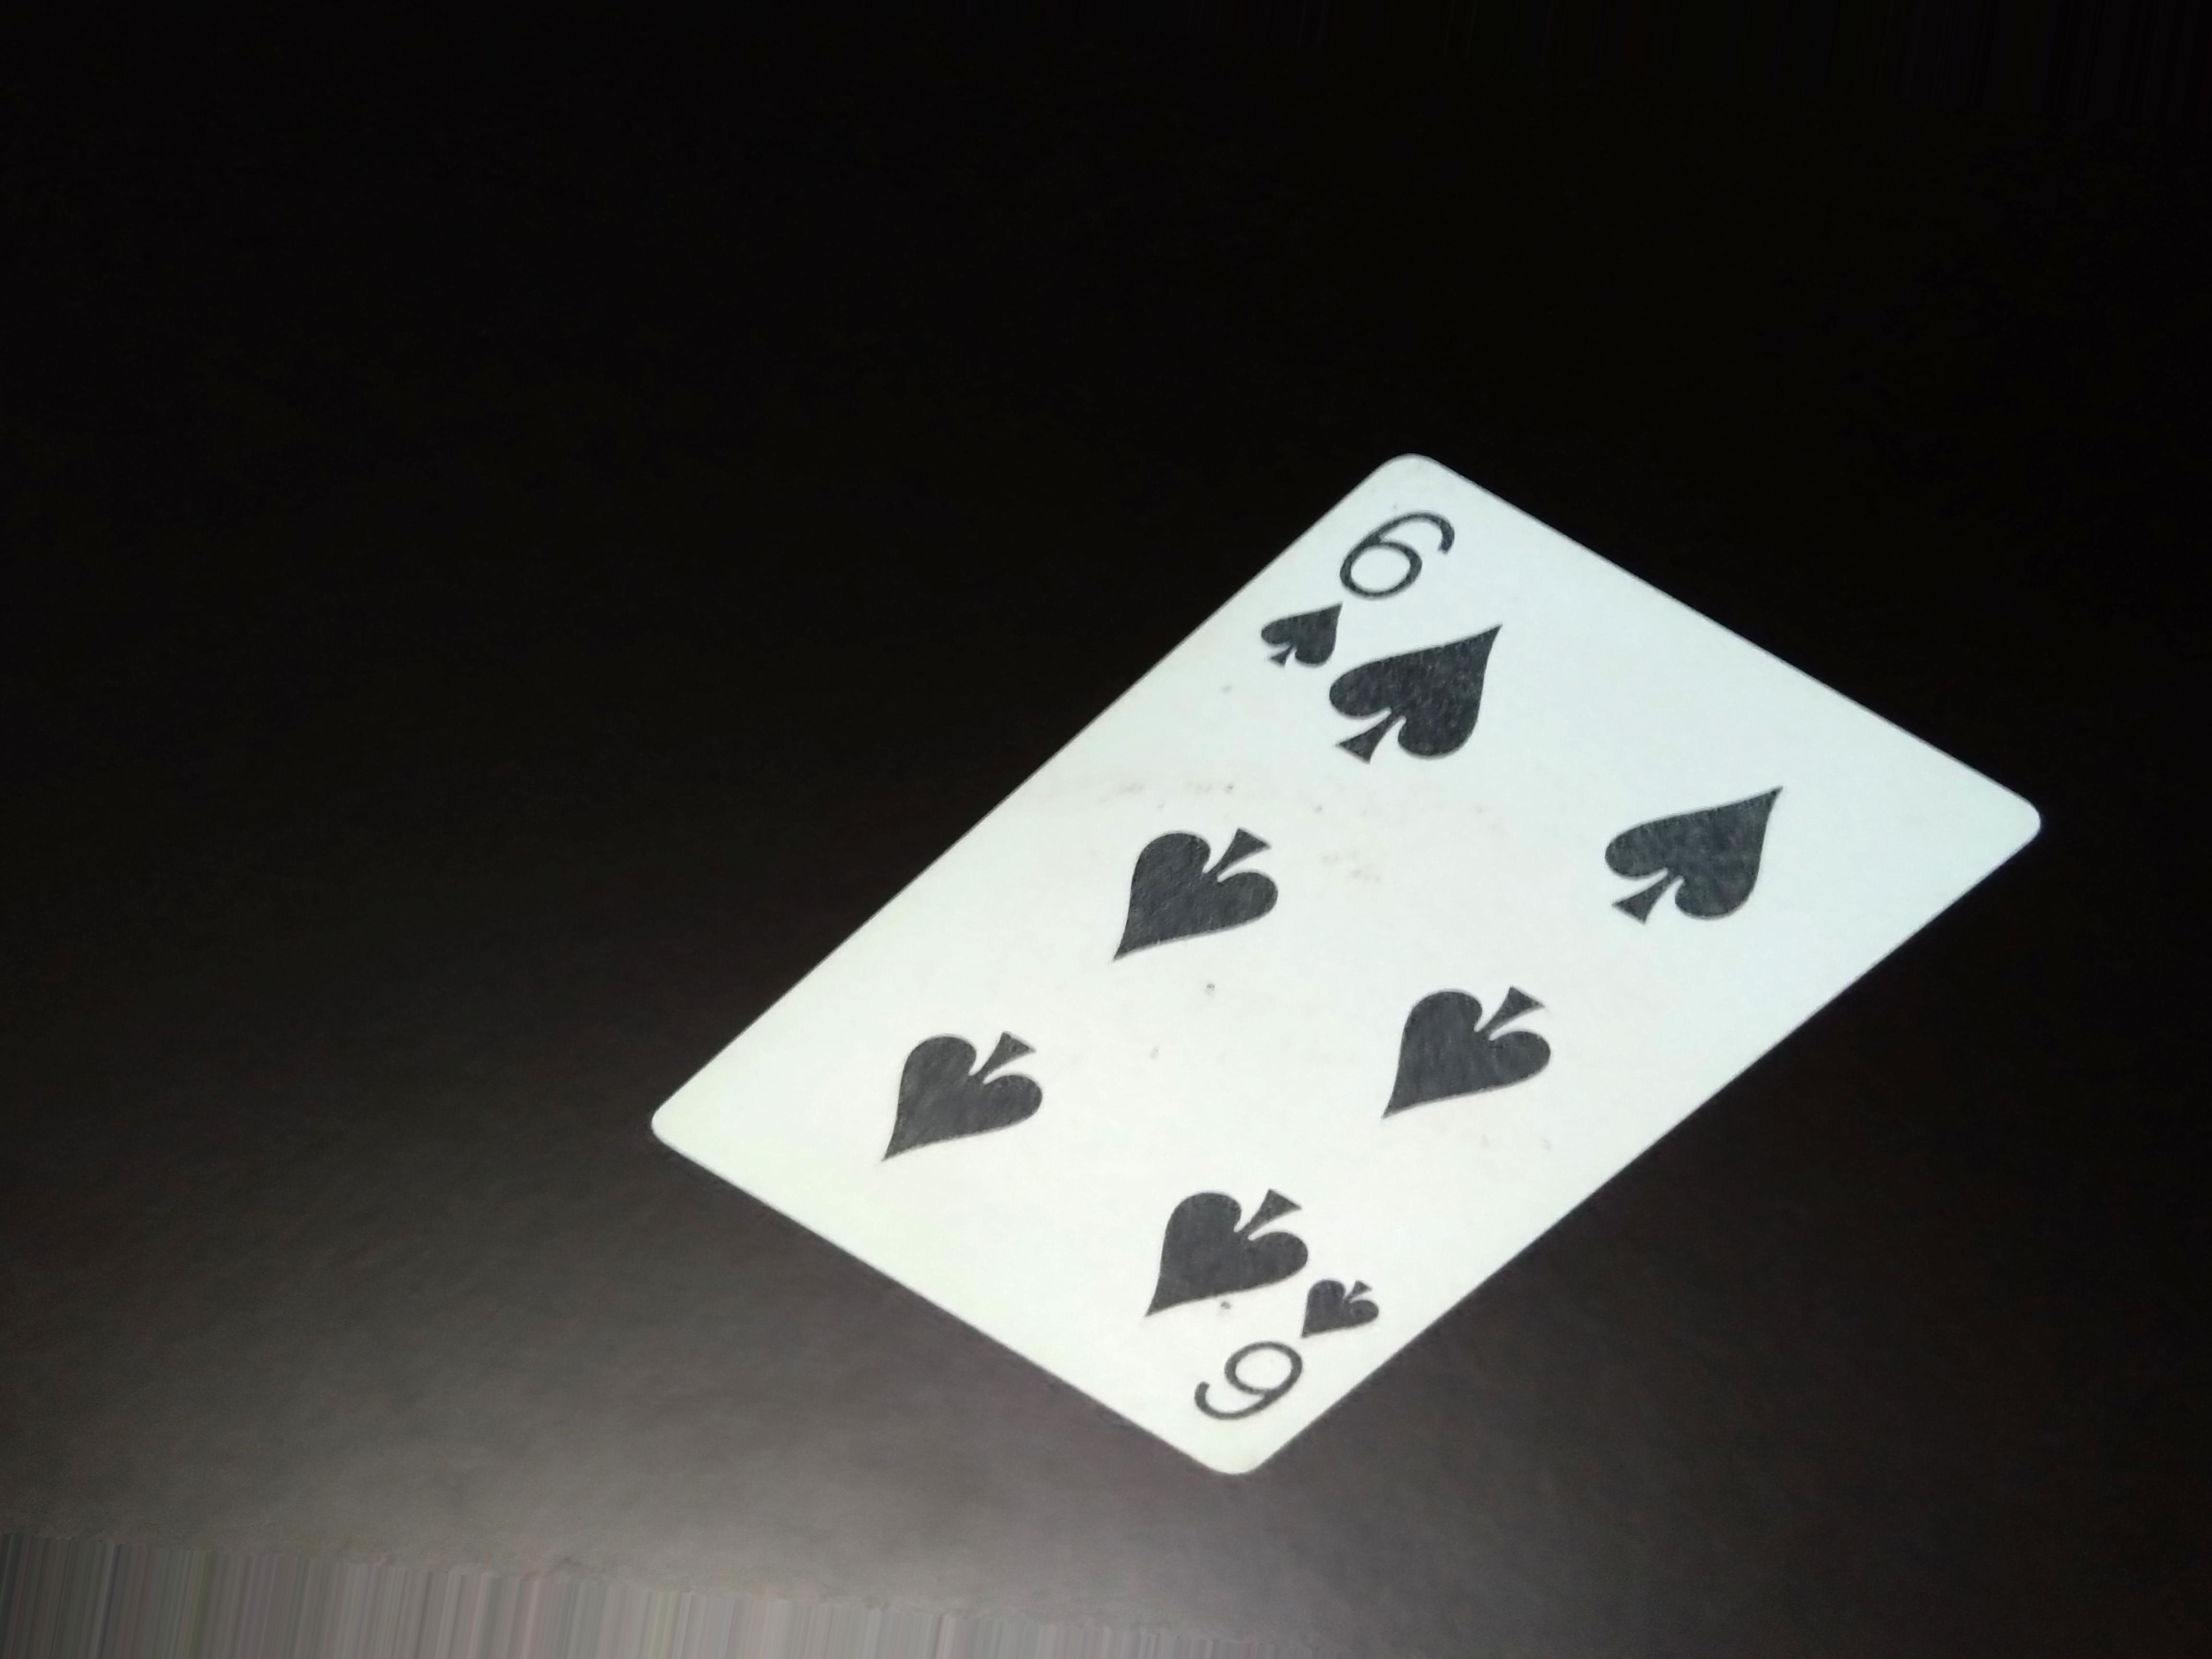6S: (1237, 458, 1489, 681)
